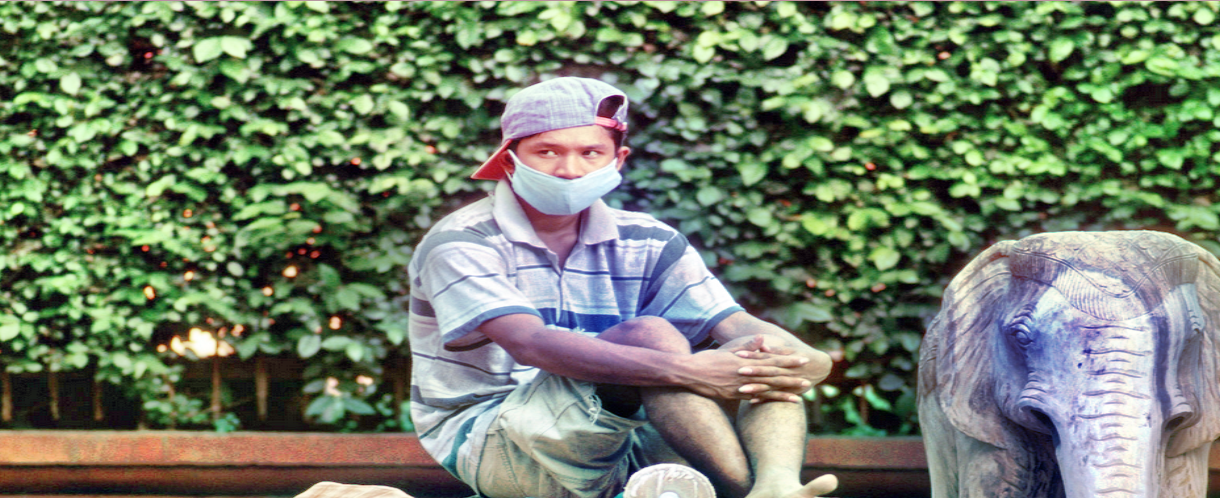mask_weared_incorrect: (479, 75, 636, 227)
